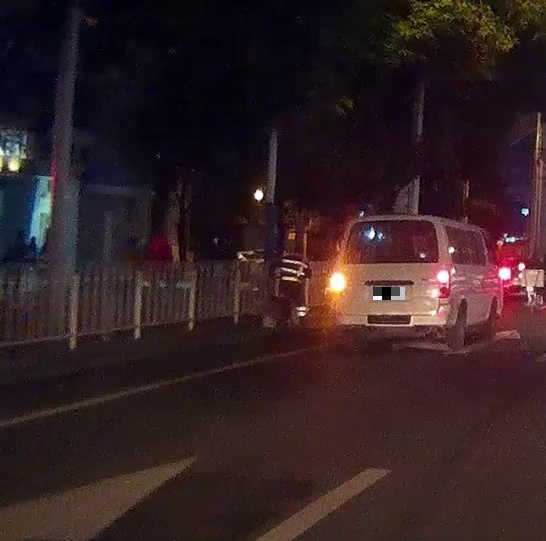L_light: (330, 273, 346, 295)
R_light: (438, 271, 449, 298)
T_light: (379, 221, 396, 225)
night-left: (329, 215, 451, 352)
plate_1: (373, 287, 405, 300)
